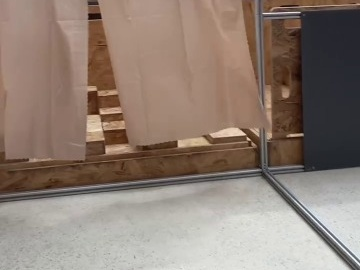curtain: (0, 0, 274, 157)
